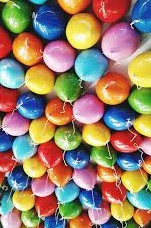Balloon: (101, 23, 140, 61), (67, 14, 101, 49), (43, 38, 76, 73), (95, 71, 130, 103), (32, 6, 65, 37), (1, 1, 32, 33), (92, 1, 131, 25), (73, 94, 104, 124), (13, 35, 41, 66), (55, 72, 85, 100), (128, 52, 151, 87), (1, 58, 26, 90), (27, 66, 55, 94), (16, 92, 46, 118), (77, 52, 106, 78), (104, 105, 133, 131), (46, 99, 75, 124), (29, 116, 55, 143), (111, 129, 141, 152), (55, 125, 82, 150), (3, 112, 30, 137), (83, 123, 110, 146), (128, 88, 151, 114), (39, 141, 62, 167), (12, 135, 36, 159), (101, 180, 126, 203), (64, 148, 91, 169), (72, 168, 96, 190), (47, 165, 72, 186), (91, 144, 114, 166), (123, 170, 147, 191), (110, 201, 134, 222), (31, 177, 55, 197), (14, 189, 35, 210), (118, 153, 143, 170), (60, 200, 82, 219), (8, 168, 28, 188), (35, 195, 55, 215), (24, 158, 45, 177), (88, 204, 110, 222), (1, 210, 22, 228), (79, 192, 102, 208), (56, 184, 77, 200), (22, 211, 41, 228)
